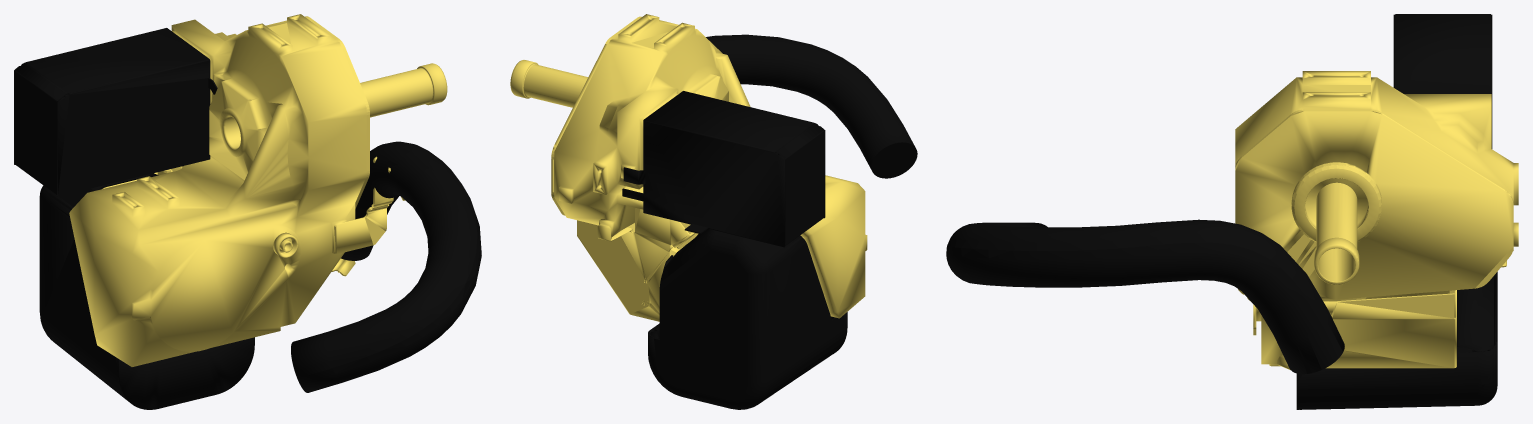
The picture shows the model from 3 angles, left to right: view 1: azimuth 30°, elevation 25°; view 2: azimuth 150°, elevation 25°; view 3: azimuth 270°, elevation 25°; orthographic projection. The views are drawn at different scales.
Visible parts, largest first — view 1: Node_0x7fd4b7426dd0.003, Node_0x7fd4b7426dd0.002, Node_0x7fd4b7426dd0, Node_0x7fd4b7426dd0.001; view 2: Node_0x7fd4b7426dd0.003, Node_0x7fd4b7426dd0.001, Node_0x7fd4b7426dd0.002, Node_0x7fd4b7426dd0; view 3: Node_0x7fd4b7426dd0.003, Node_0x7fd4b7426dd0, Node_0x7fd4b7426dd0.001, Node_0x7fd4b7426dd0.002.
Part boxes in pixels (box(x1,y1,x2,y2)): Node_0x7fd4b7426dd0.003: box(69, 14, 447, 366); Node_0x7fd4b7426dd0.002: box(14, 28, 217, 196); Node_0x7fd4b7426dd0: box(291, 141, 481, 392); Node_0x7fd4b7426dd0.001: box(39, 173, 254, 409); Node_0x7fd4b7426dd0.003: box(510, 14, 867, 321); Node_0x7fd4b7426dd0.001: box(648, 229, 847, 409); Node_0x7fd4b7426dd0.002: box(622, 91, 825, 247); Node_0x7fd4b7426dd0: box(706, 34, 917, 178); Node_0x7fd4b7426dd0.003: box(1235, 71, 1518, 369); Node_0x7fd4b7426dd0: box(946, 219, 1344, 374); Node_0x7fd4b7426dd0.001: box(1296, 272, 1497, 409); Node_0x7fd4b7426dd0.002: box(1393, 14, 1492, 148).
Size of the model in its own units: 0.4602 by 0.5696 by 0.4064.
